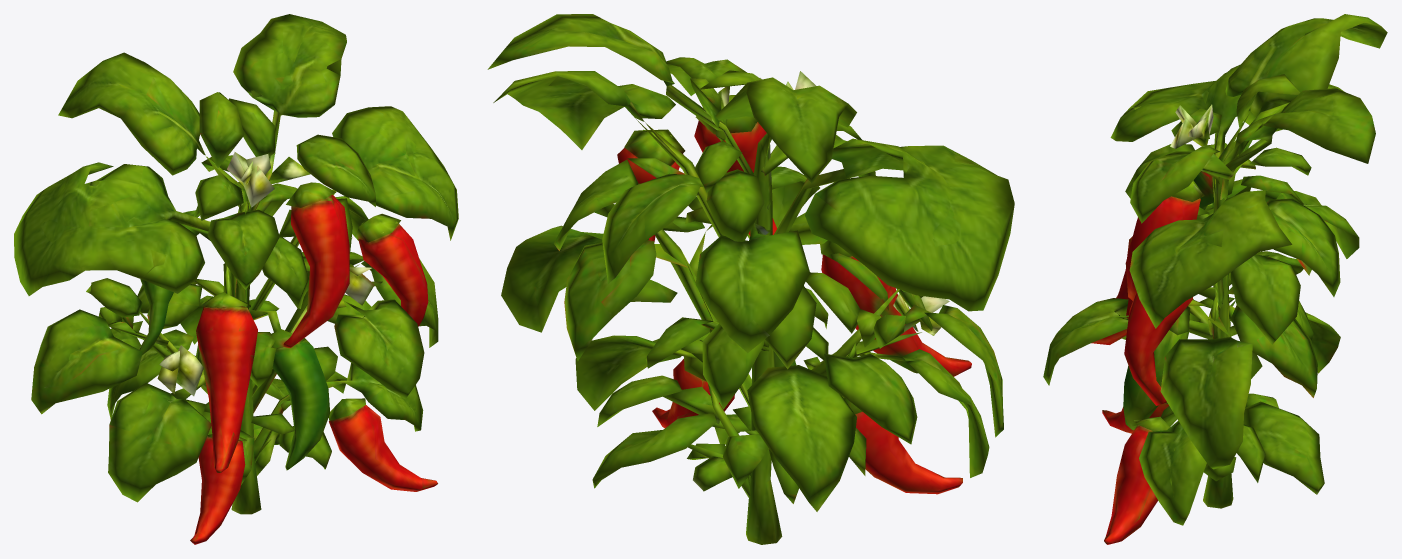
File: pepper.glb
The picture shows the model from 3 angles, left to right: view 1: azimuth 30°, elevation 25°; view 2: azimuth 150°, elevation 25°; view 3: azimuth 270°, elevation 25°; orthographic projection. The views are drawn at different scales.
Size of the model in its own units: 1 by 1 by 0.6895.
1 material, 1 textured.
